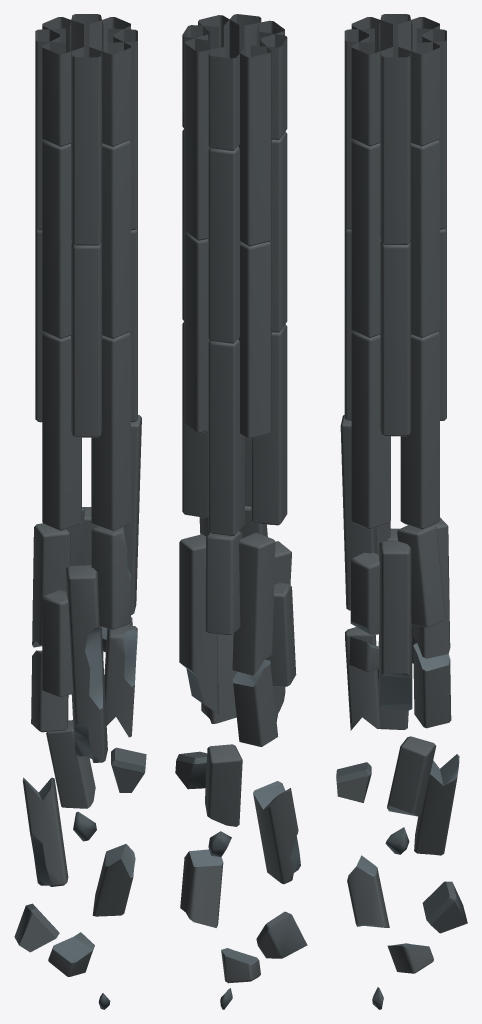
File: pillar_009.glb
3 views of the same model, side by side, from view 1: azimuth 90°, elevation 25°; view 2: azimuth 210°, elevation 25°; view 3: azimuth 270°, elevation 25° (orthographic).
Visible parts, largest first — view 1: pillar_009; view 2: pillar_009; view 3: pillar_009.
Part boxes in pixels (bbox=[...]): pillar_009: bbox=[14, 14, 146, 1009]; pillar_009: bbox=[175, 14, 307, 1009]; pillar_009: bbox=[336, 14, 467, 1009].
Size of the model in its own units: 6.69 by 62.84 by 7.72.
Materials: 1 (1 with a texture image).
